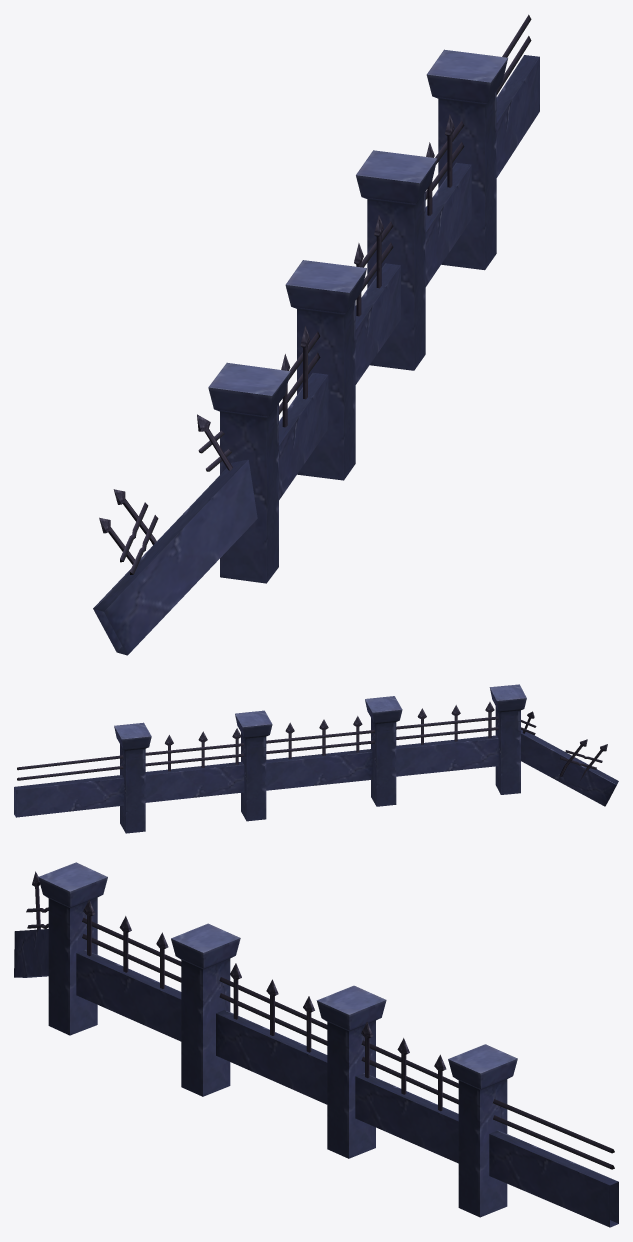
File: Area09_18.fbx
3 views of the same model, one above another, from view 1: azimuth 30°, elevation 25°; view 2: azimuth 150°, elevation 25°; view 3: azimuth 270°, elevation 25° (orthographic). The views are drawn at different scales.
Visible parts, largest first — view 1: Area09_18; view 2: Area09_18; view 3: Area09_18.
Part boxes in pixels (x1,y1,x2,y2): Area09_18: (93, 14, 539, 655); Area09_18: (14, 684, 618, 833); Area09_18: (14, 862, 618, 1227).
Bounding box in the file's own units: 2771 × 676 × 2285.
